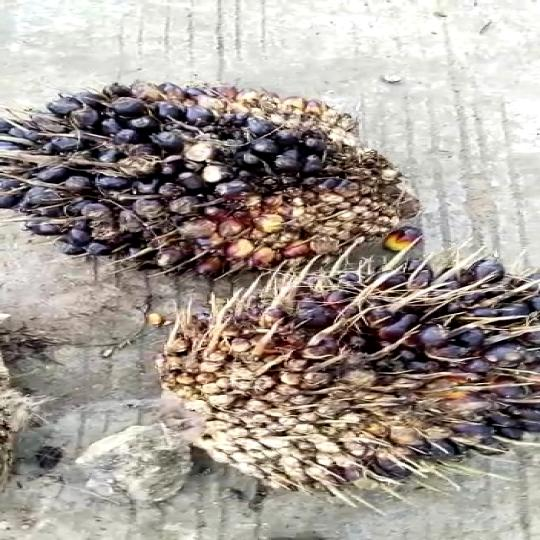mentah: (152, 248, 540, 515), (0, 79, 452, 285)
